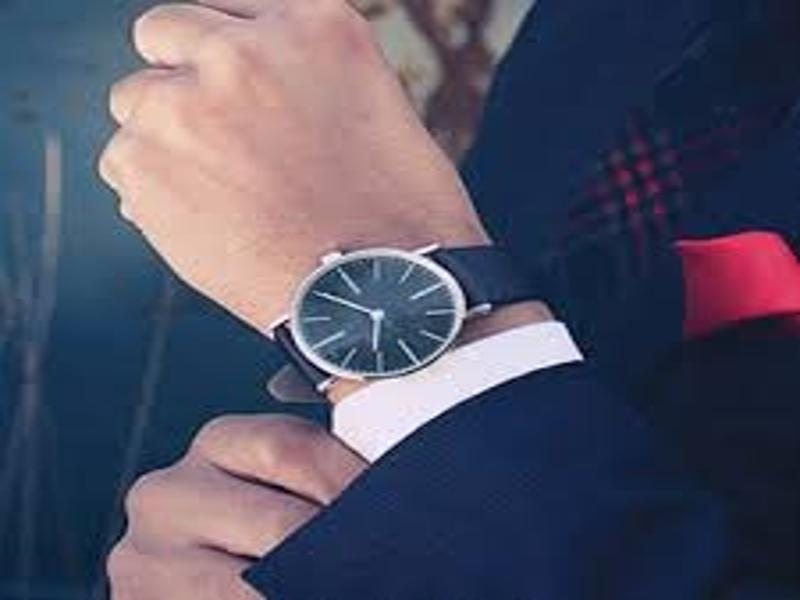watch: (256, 235, 557, 406)
